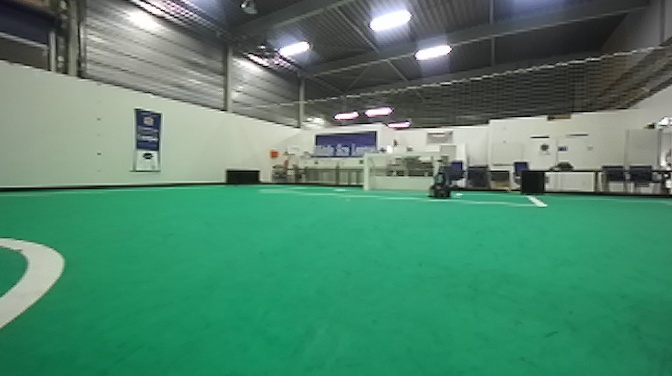goal: (361, 150, 443, 193)
robot: (428, 158, 455, 202)
